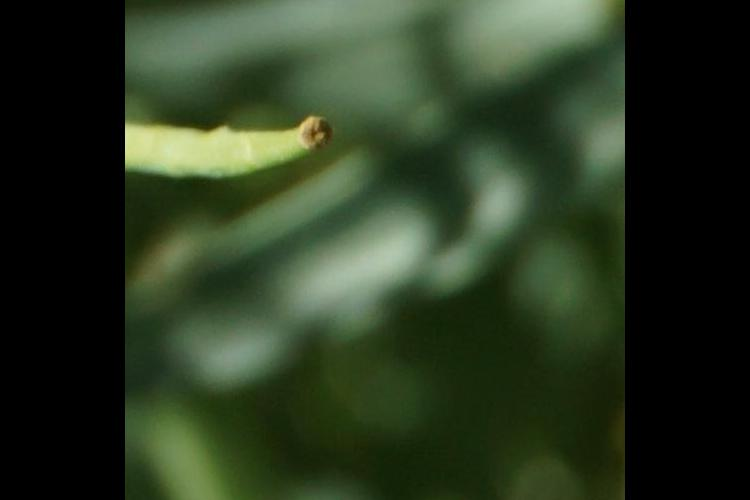pod: (151, 67, 344, 197)
